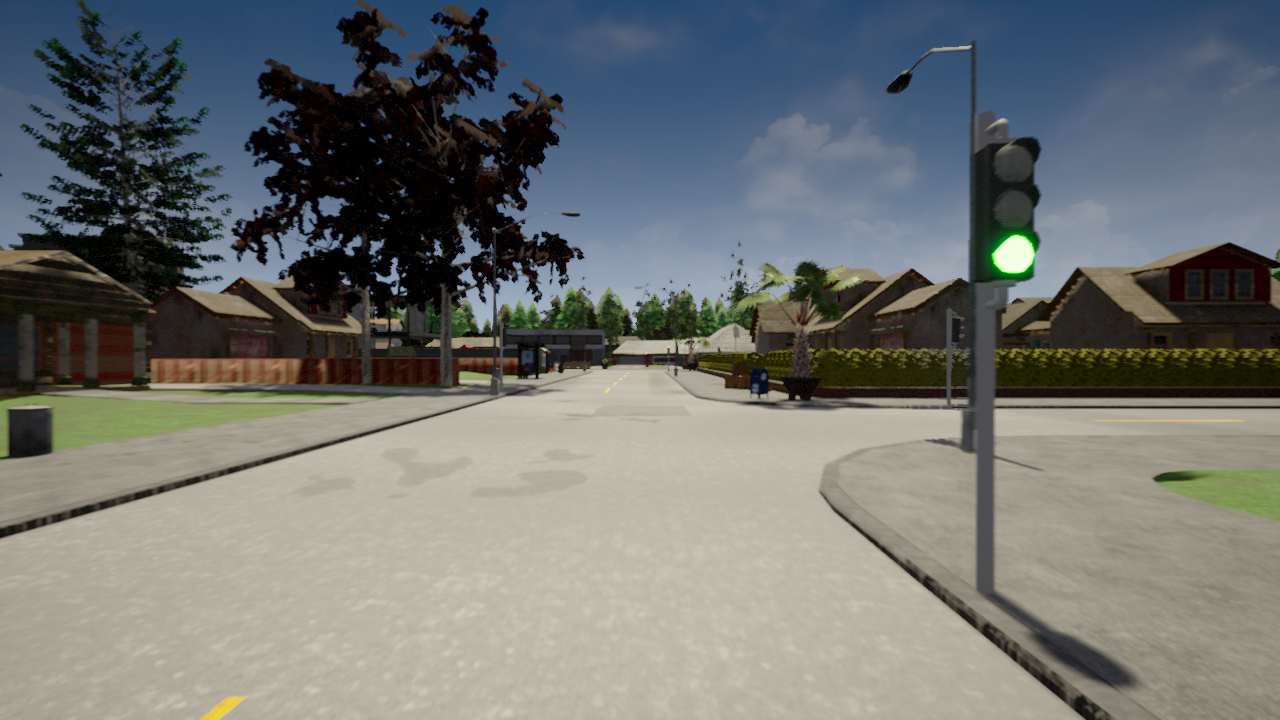green: (969, 137, 1038, 286)
